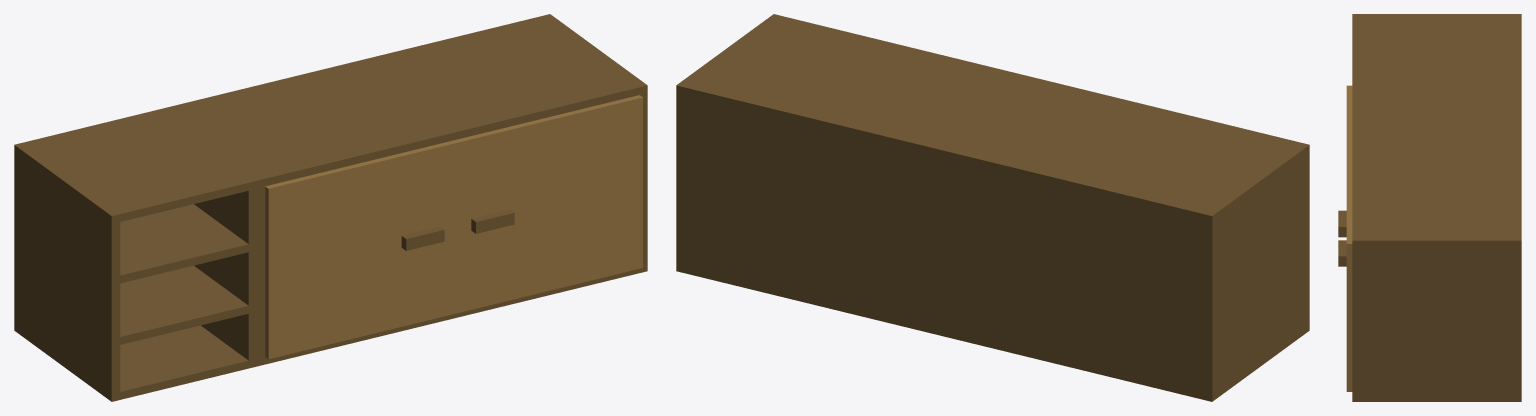
Rendered from Meuble_TV.fbx.
3 renders of one model, left to right at view 1: azimuth 30°, elevation 25°; view 2: azimuth 150°, elevation 25°; view 3: azimuth 270°, elevation 25°, orthographic. The views are drawn at different scales.
Parts seen in each view (by area): view 1: Cube; view 2: Cube; view 3: Cube.
Part boxes in pixels (<box>): Cube: <box>14,14,647,401</box>; Cube: <box>676,14,1309,401</box>; Cube: <box>1338,14,1521,401</box>.
Size of the model in its own units: 300 by 99.39 by 102.
